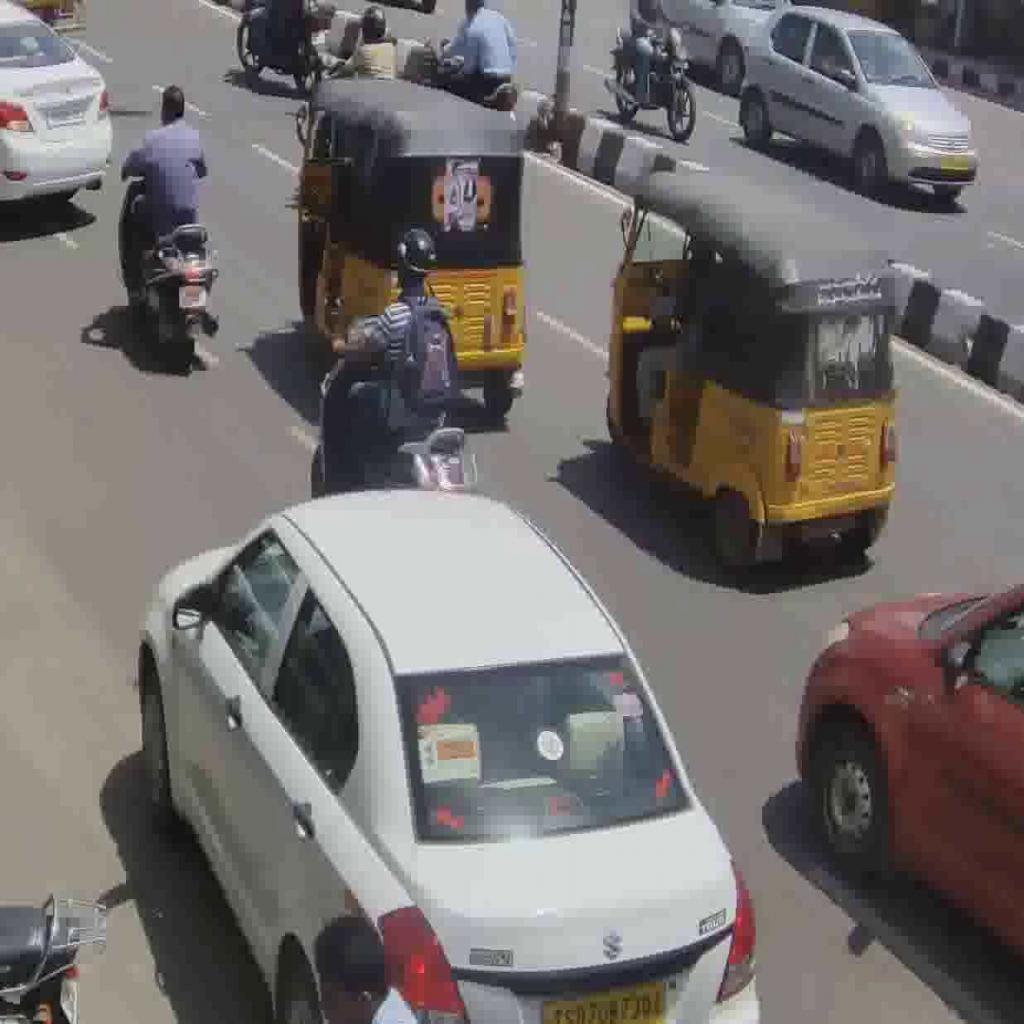helmet: (115, 161, 221, 370), (600, 23, 696, 140)
